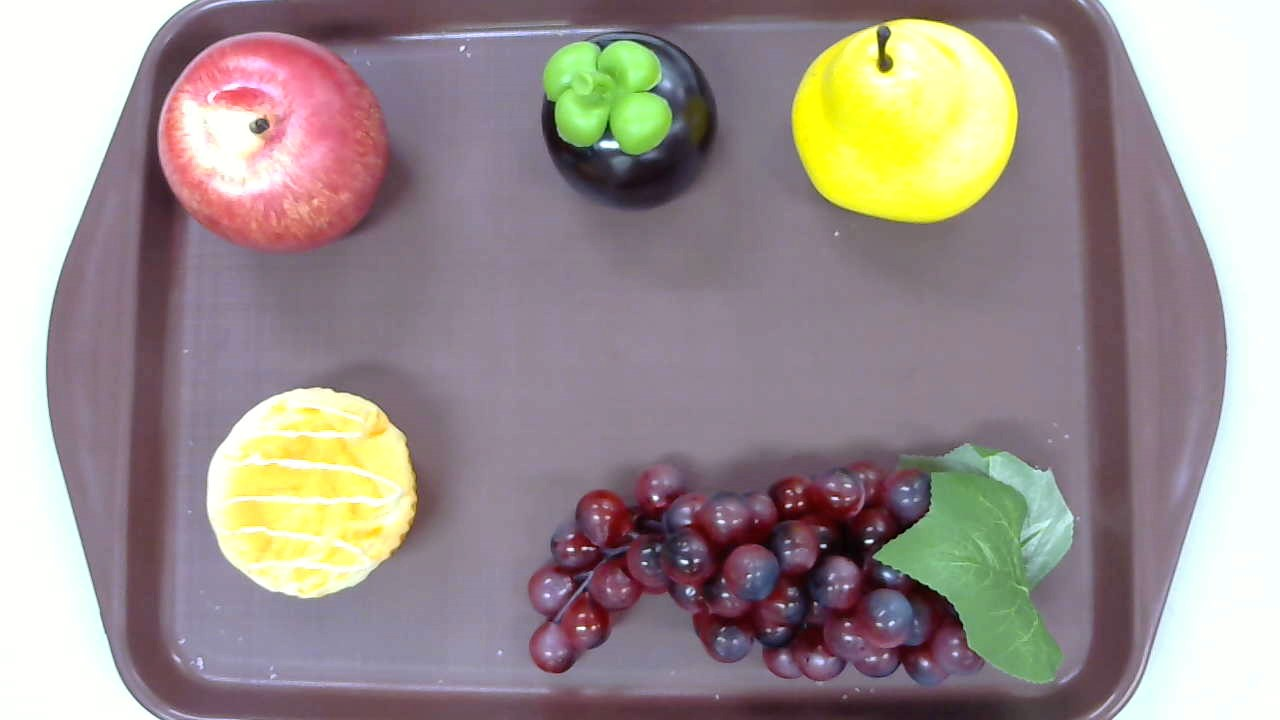cupcake: (205, 387, 418, 599)
grape: (529, 443, 1074, 691)
mangosteen: (541, 32, 718, 211)
red apple: (156, 31, 389, 255)
yellow pear: (789, 19, 1018, 222)
